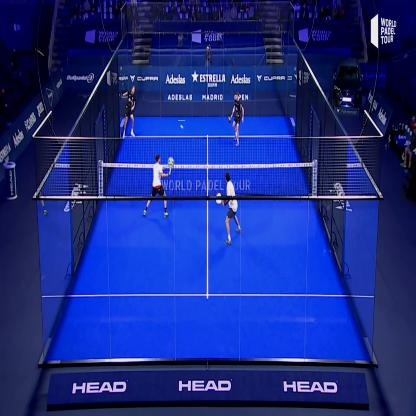ball: (178, 120, 186, 135)
